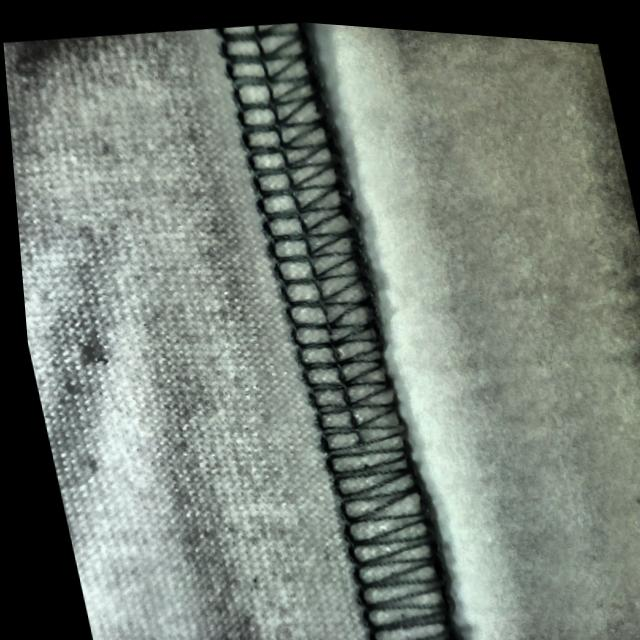Stitch: (250, 174, 453, 640)
